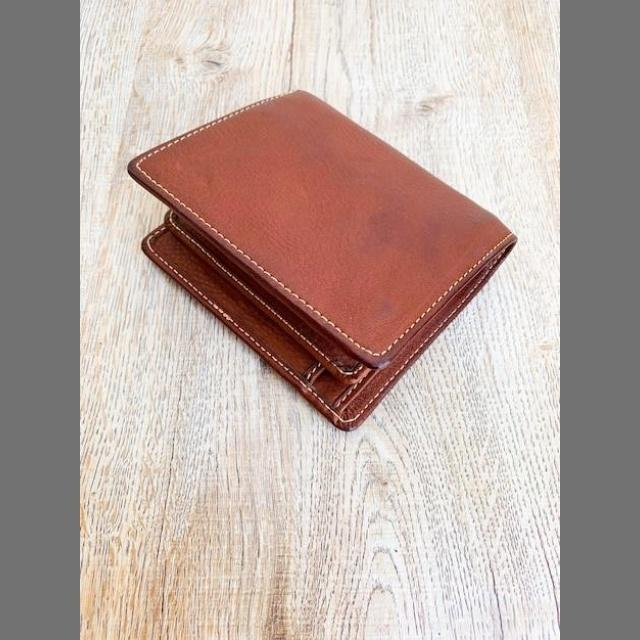Wallet: (113, 49, 520, 425)
